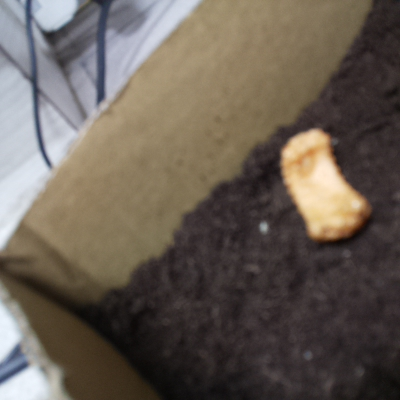eggs: (271, 121, 376, 249)
